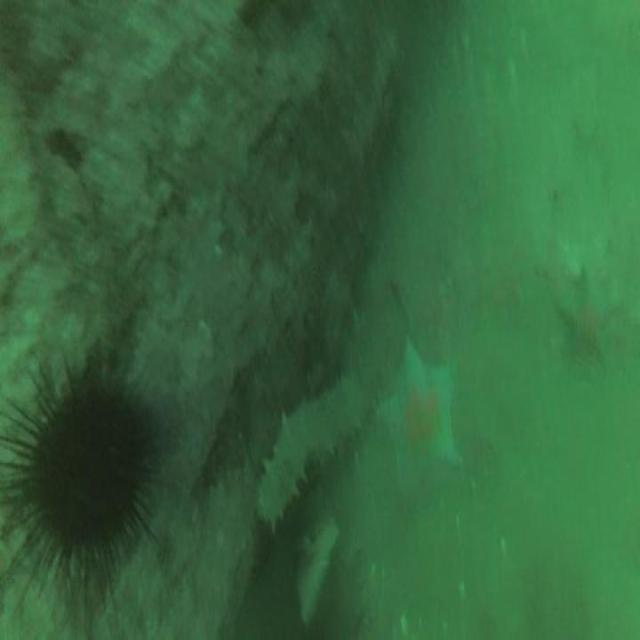echinus: (0, 352, 177, 626)
holothurian: (248, 368, 374, 533)
starfish: (377, 332, 466, 499), (556, 261, 623, 376)
